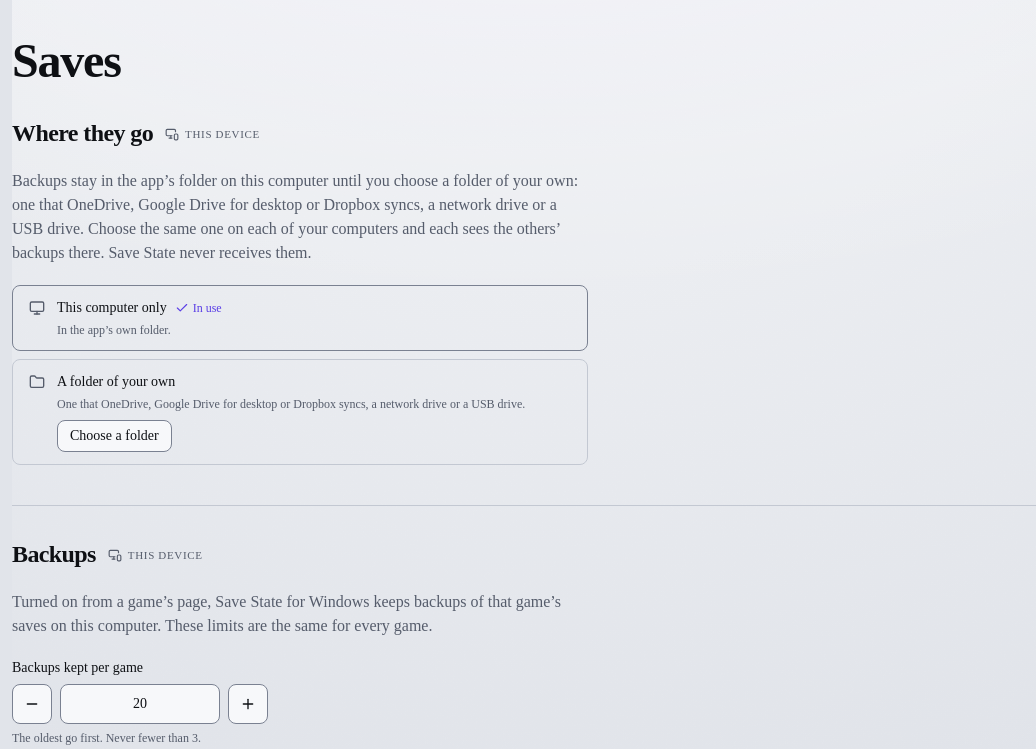
Scenario: the limits on games’ backups › save a change, and say so
Replace the text in the field labelled "Backups kept per game" with "30": point(140, 704) x1=60 y1=684 x2=220 y2=724
Then press Enter
(page scrolled)
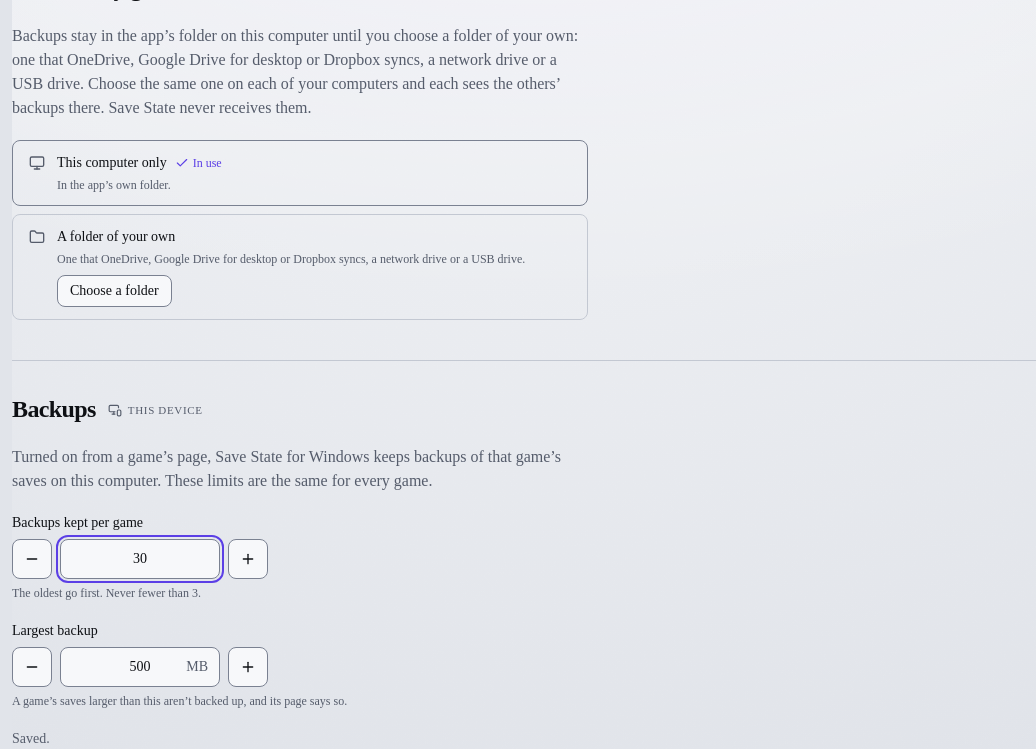
Result: the text "Saved." is shown at x1=12 y1=731 x2=50 y2=746
